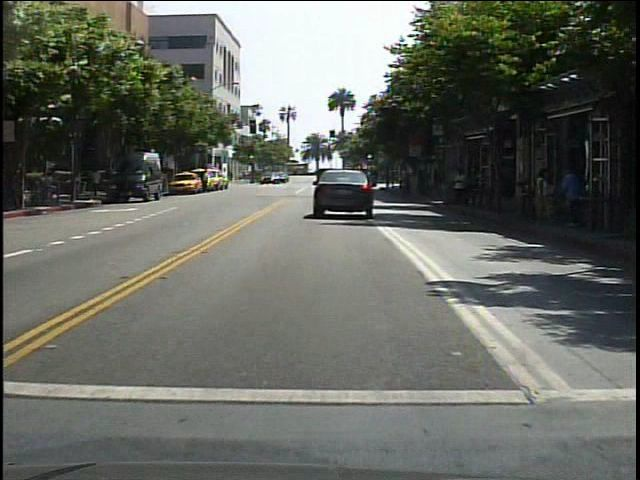person: (449, 166, 471, 212)
